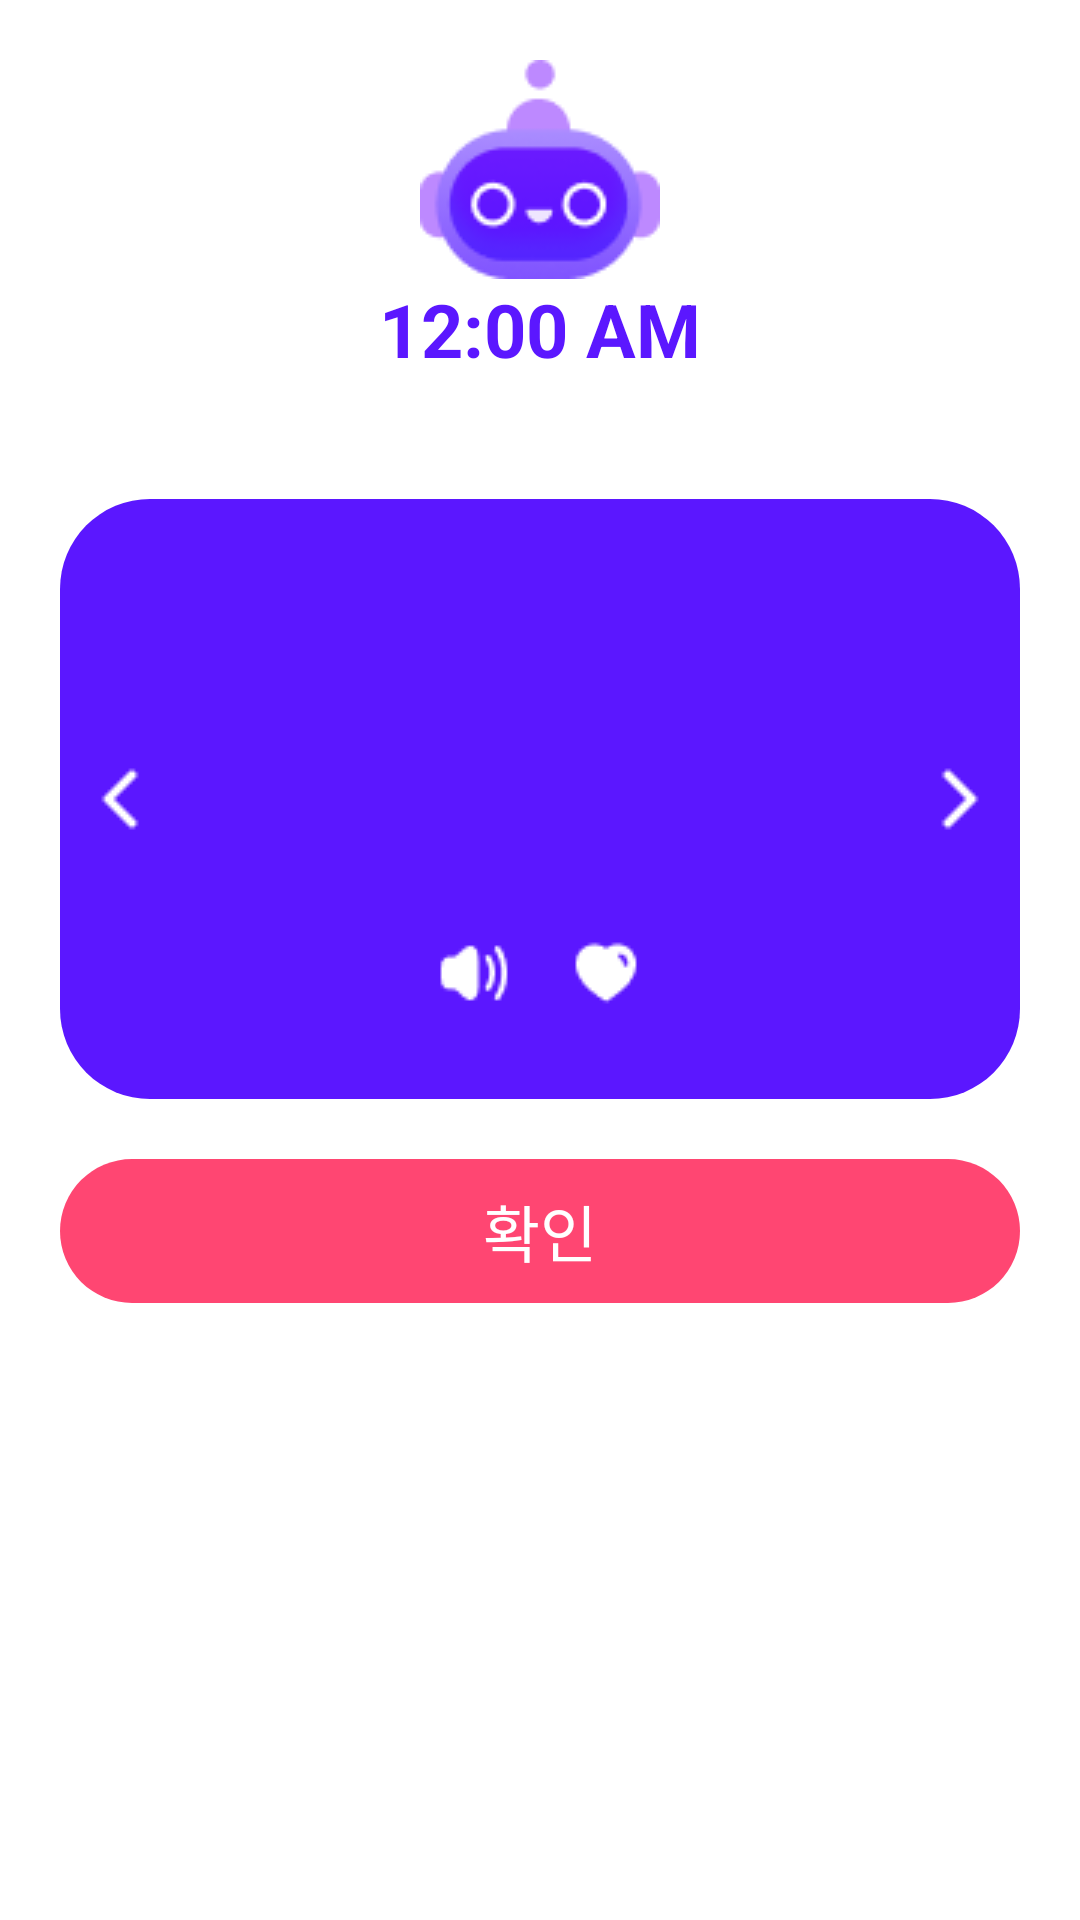

Screen size 1080×1920. Icon name, then its center in pixels as (x=x, y=y):
helper: (x=540, y=169)
left: (x=120, y=799)
like: (x=606, y=972)
listen: (x=474, y=973)
right: (x=960, y=799)
